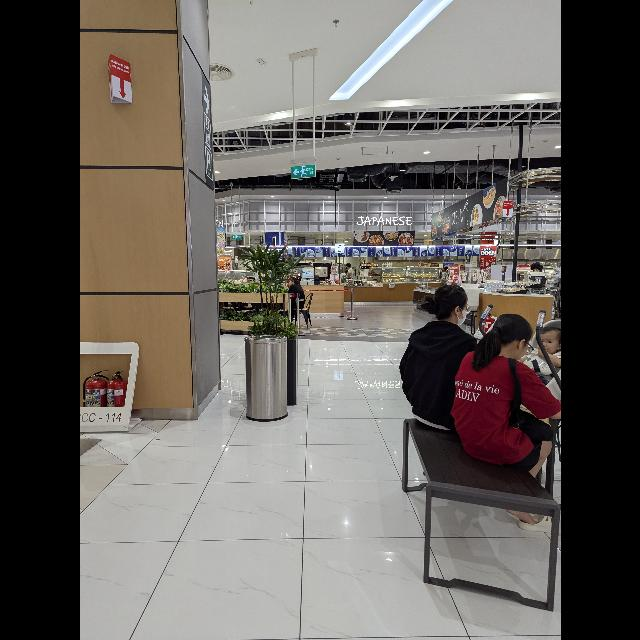exit: (290, 164, 315, 179)
